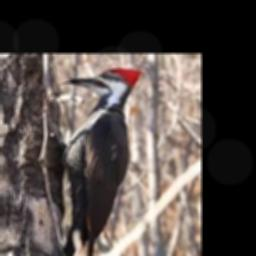Woodpecker: (58, 68, 141, 256)
